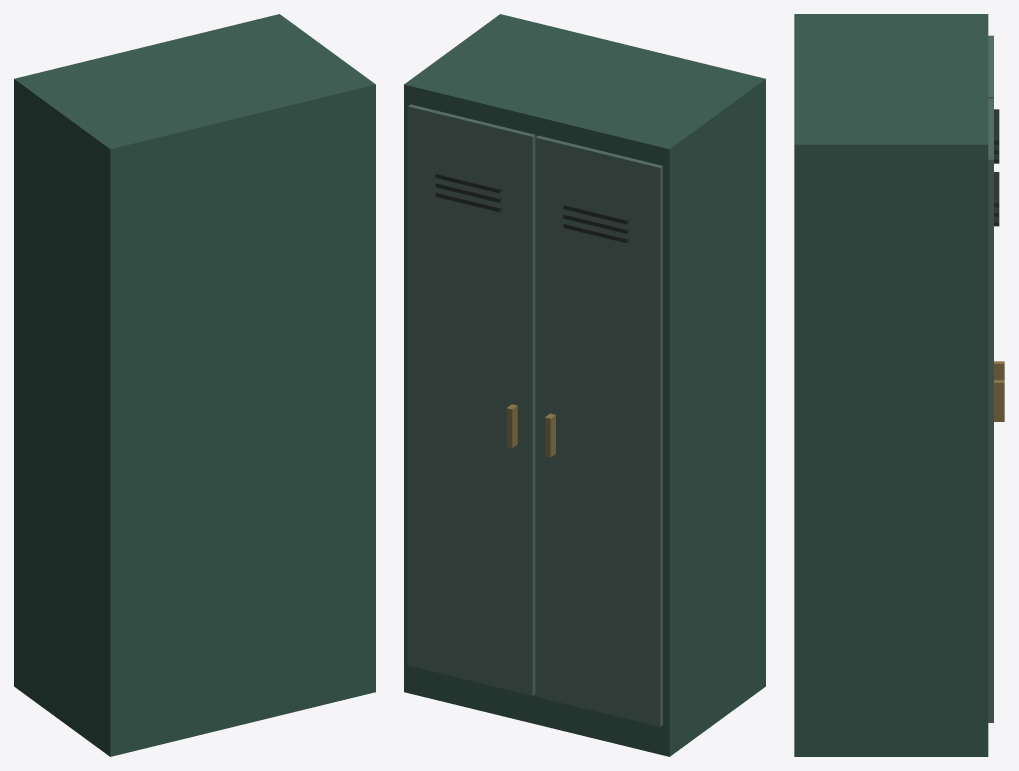
Rendered from metal_locker.glb.
The picture shows the model from 3 angles, left to right: view 1: azimuth 30°, elevation 25°; view 2: azimuth 150°, elevation 25°; view 3: azimuth 270°, elevation 25°; orthographic projection.
Parts seen in each view (by area): view 1: metal_locker; view 2: metal_locker; view 3: metal_locker.
Boxes of the visible parts, <box> form: metal_locker: <box>14,14,375,756</box>; metal_locker: <box>404,14,765,756</box>; metal_locker: <box>794,14,1004,756</box>.
Bounding box in the file's own units: 0.86 × 1.88 × 0.586.
